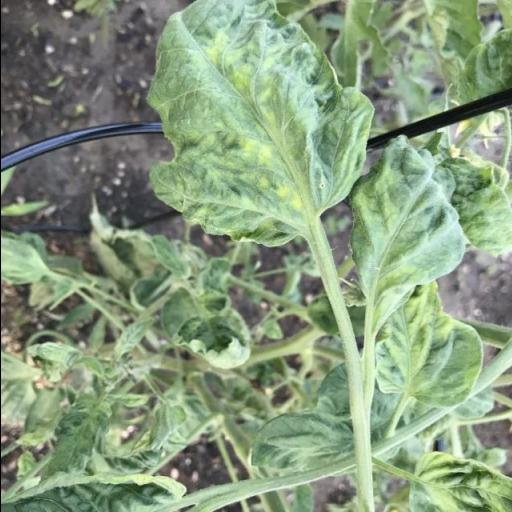disease_tomato: (146, 2, 375, 248), (346, 136, 469, 302), (374, 276, 486, 411)
